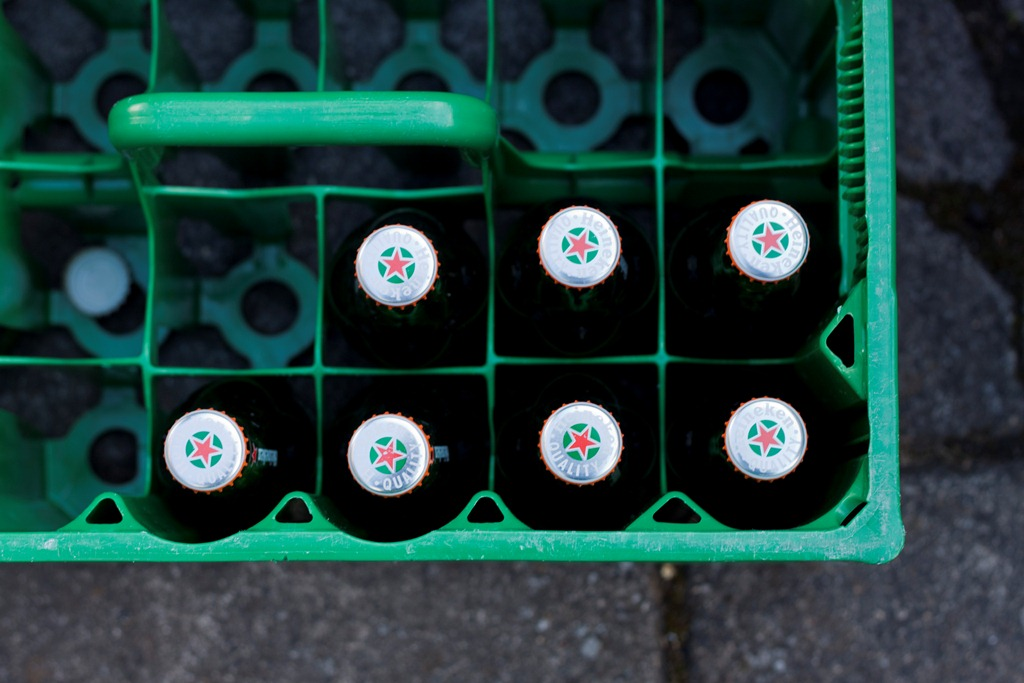heineken: (350, 221, 443, 312), (535, 398, 624, 489), (534, 202, 622, 291), (722, 396, 809, 484), (724, 197, 811, 284), (161, 406, 248, 492), (346, 413, 430, 500)
